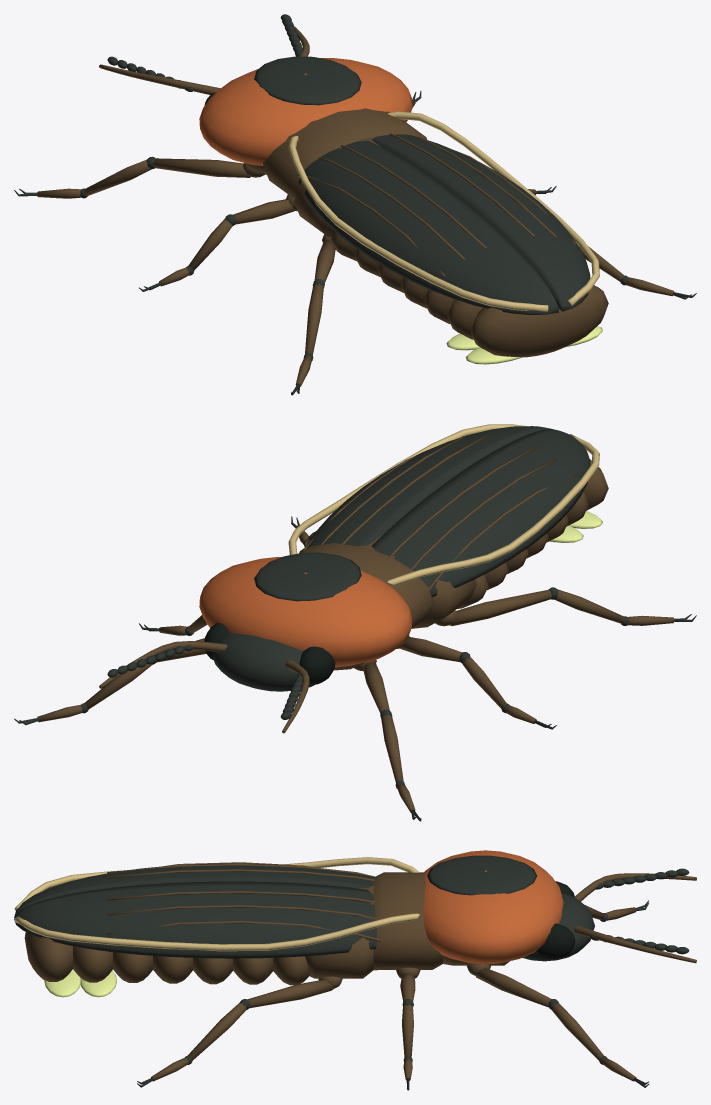
Rendered from Firefly.fbx.
The picture shows the model from 3 angles, top to bottom: view 1: azimuth 30°, elevation 25°; view 2: azimuth 150°, elevation 25°; view 3: azimuth 270°, elevation 25°; orthographic projection. The views are drawn at different scales.
Parts seen in each view (by area): view 1: Material group Firefly_Soft_black_elytra, Material group Firefly_Legs_and_antennae, Material group Firefly_Orange_pronotum, Material group Firefly_Pale_elytral_margin, Material group Firefly_Ventral_lantern; view 2: Material group Firefly_Soft_black_elytra, Material group Firefly_Legs_and_antennae, Material group Firefly_Orange_pronotum, Material group Firefly_Pale_elytral_margin, Material group Firefly_Eyes, Material group Firefly_Ventral_lantern; view 3: Material group Firefly_Soft_black_elytra, Material group Firefly_Legs_and_antennae, Material group Firefly_Orange_pronotum, Material group Firefly_Pale_elytral_margin, Material group Firefly_Ventral_lantern, Material group Firefly_Eyes.
Boxes of the visible parts, <box> form: Material group Firefly_Soft_black_elytra: <box>14,14,696,395</box>; Material group Firefly_Legs_and_antennae: <box>37,21,674,386</box>; Material group Firefly_Orange_pronotum: <box>199,58,412,165</box>; Material group Firefly_Pale_elytral_margin: <box>288,111,599,312</box>; Material group Firefly_Ventral_lantern: <box>446,326,602,364</box>; Material group Firefly_Soft_black_elytra: <box>14,426,696,821</box>; Material group Firefly_Legs_and_antennae: <box>37,435,674,812</box>; Material group Firefly_Orange_pronotum: <box>199,557,412,667</box>; Material group Firefly_Pale_elytral_margin: <box>288,424,599,585</box>; Material group Firefly_Eyes: <box>204,622,335,684</box>; Material group Firefly_Ventral_lantern: <box>549,511,602,542</box>; Material group Firefly_Soft_black_elytra: <box>14,855,689,1090</box>; Material group Firefly_Legs_and_antennae: <box>24,862,696,1081</box>; Material group Firefly_Orange_pronotum: <box>423,850,563,964</box>; Material group Firefly_Pale_elytral_margin: <box>14,857,419,951</box>; Material group Firefly_Ventral_lantern: <box>44,969,116,997</box>; Material group Firefly_Eyes: <box>536,881,575,959</box>.
Bounding box in the file's own units: 0.6538 × 0.2053 × 1.
